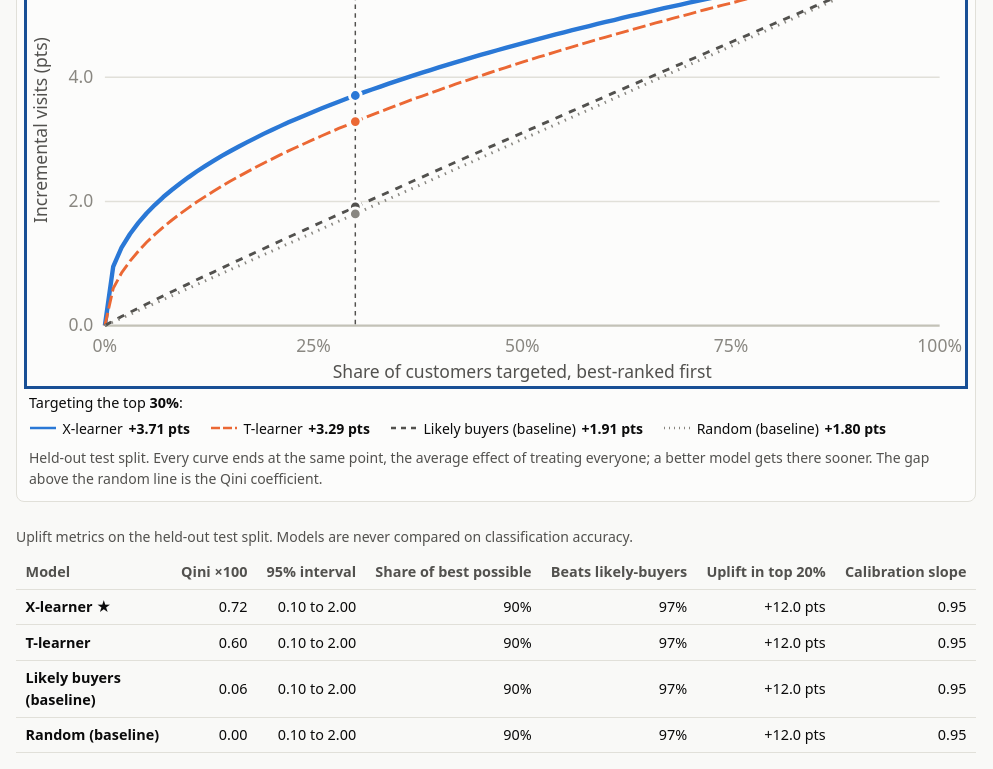
comparing models › reads the chart out by keyboard: arrow keys move along the share targeted
(page scrolled)
Expected: the text "Targeting the top 30%:" is shown, [29, 393, 183, 412]
Press Arrowright Arrowright Pageup
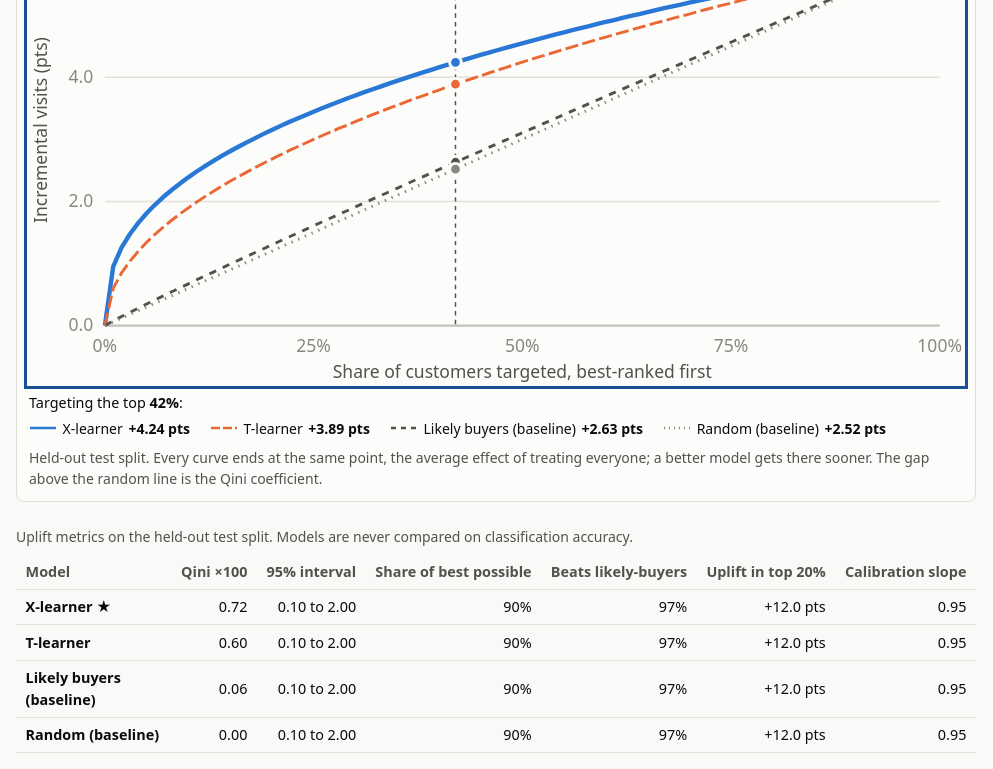
Now the text "Targeting the top 42%:" is shown, box [29, 393, 183, 412]
Press Home
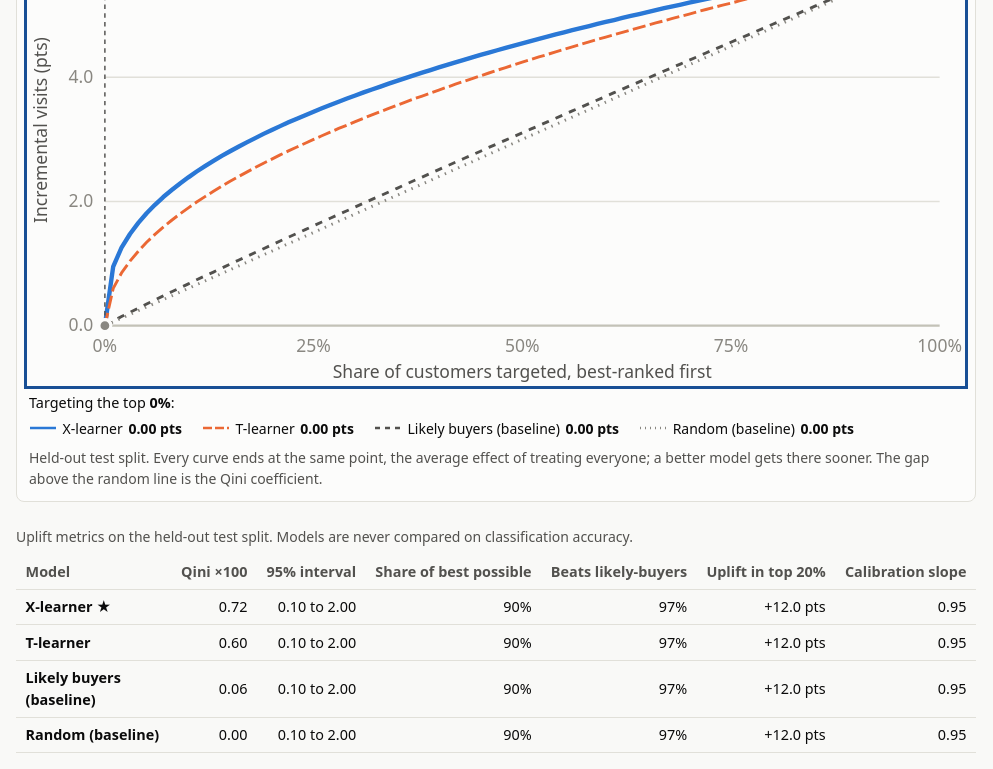
Now the text "Targeting the top 0%:" is shown, box [29, 393, 175, 412]
// the readout ranks the models at that point and names each one in text, not by colour
Press End Arrowleft
(page scrolled)
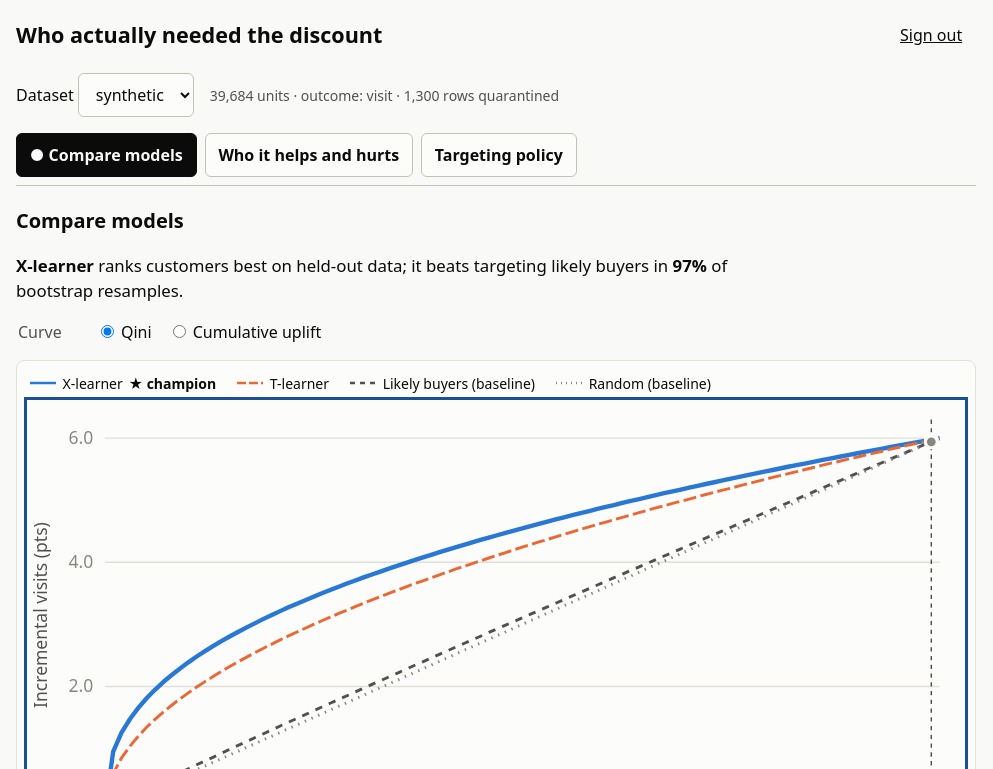
Click the radio button labelled "Cumulative uplift": (179, 332) [173, 325, 186, 338]
(page scrolled)
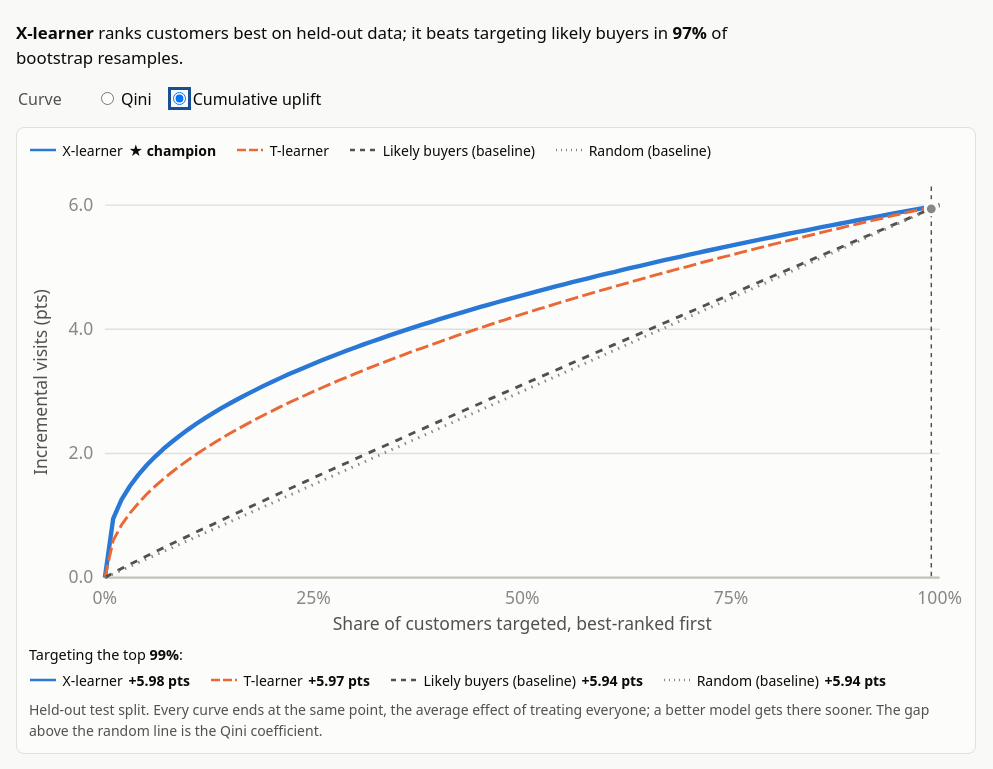
Now the picture named "Cumulative uplift curve" is shown, box [29, 169, 963, 636]
